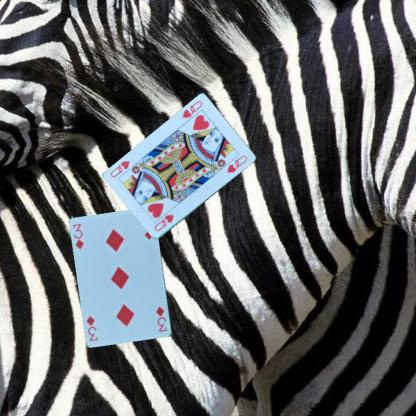3d: (70, 221, 85, 251), (153, 304, 168, 333)
Qh: (180, 98, 203, 120), (151, 212, 175, 233)
